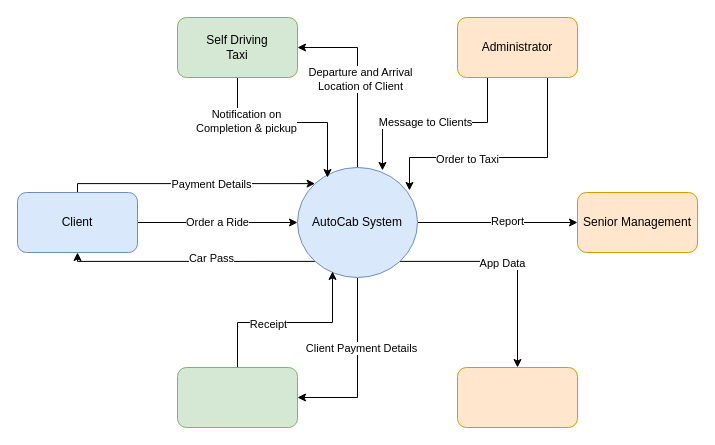
This 715x445 diagram has some shape labels left out. The box of each missing label's shape, as (x1, y1, x2, y2) in pixels:
Data Analyst: (456, 366, 578, 428)
Payment System: (176, 366, 298, 428)
